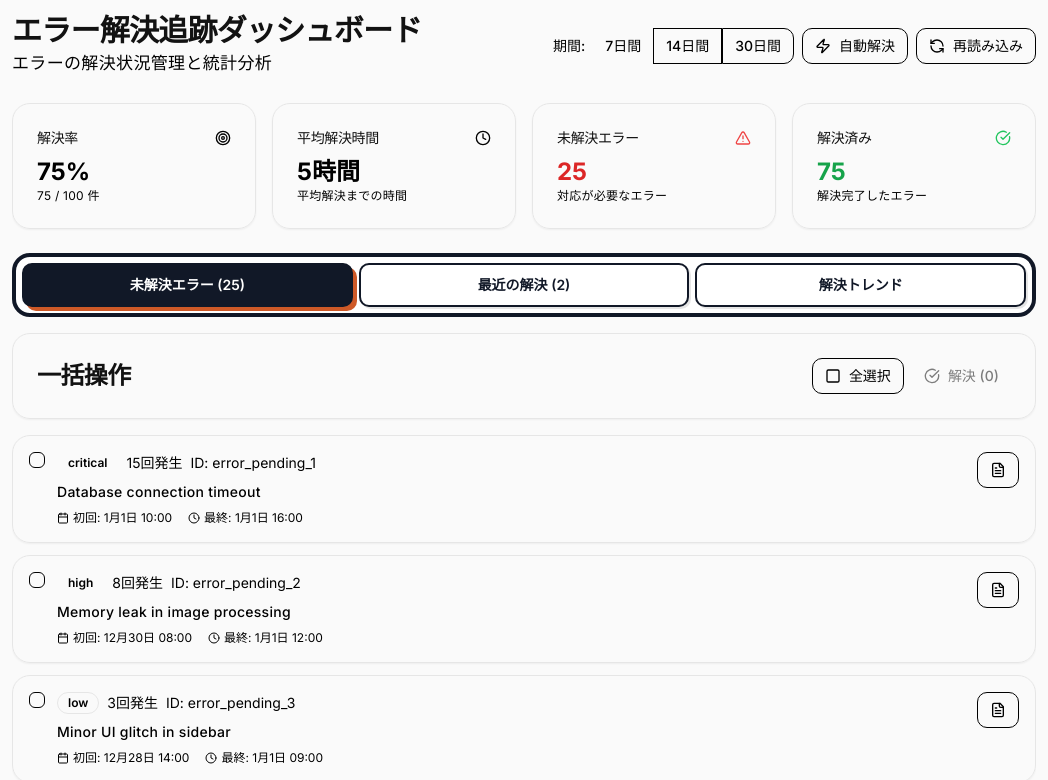
Test case: ErrorResolutionDashboard › タブ機能テスト › 解決トレンドタブが表示されること
Step 1. Click the tab "解決トレンド" → (861, 285), box [695, 263, 1026, 307]
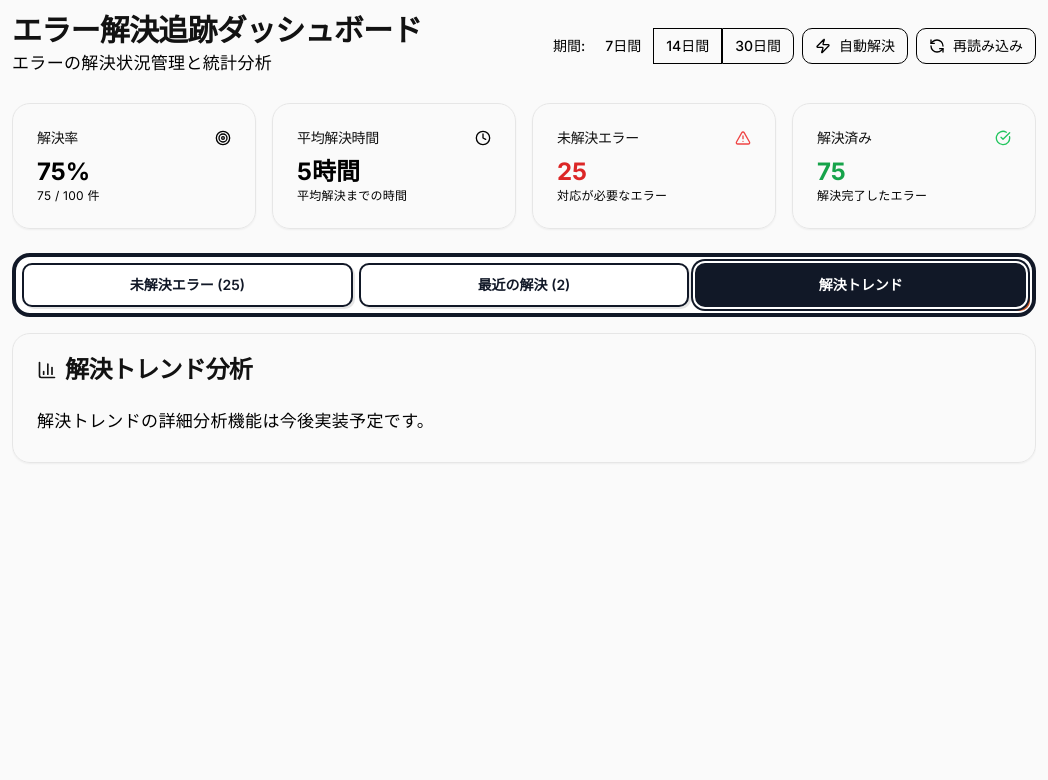
Expected: the heading "解決トレンド分析" is shown, [37, 355, 252, 384]
Expected: the text "解決トレンドの詳細分析機能は今後実装予定です。" is shown, [37, 411, 434, 431]
